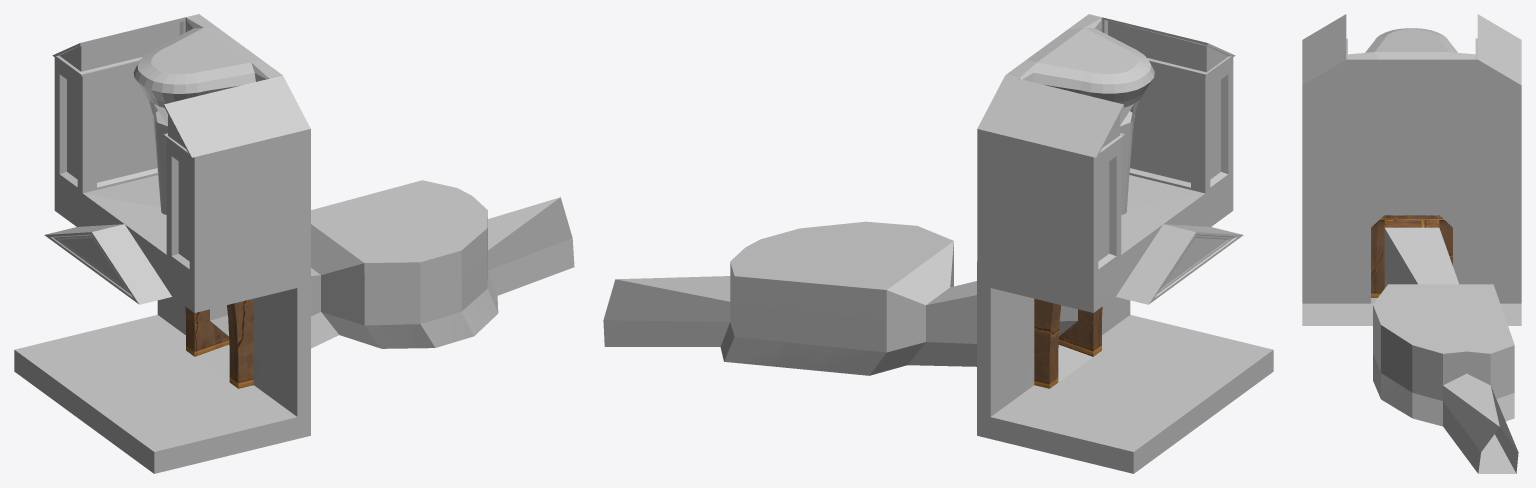
Rendered from temple.fbx.
The picture shows the model from 3 angles, left to right: view 1: azimuth 30°, elevation 25°; view 2: azimuth 150°, elevation 25°; view 3: azimuth 270°, elevation 25°; orthographic projection. The views are drawn at different scales.
Parts seen in each view (by area): view 1: temple; view 2: temple; view 3: temple.
Boxes of the visible parts, bbox=[...] form: temple: bbox=[14, 14, 574, 473]; temple: bbox=[603, 14, 1273, 473]; temple: bbox=[1302, 14, 1521, 473].
Size of the model in its own units: 710 by 444 by 323.
